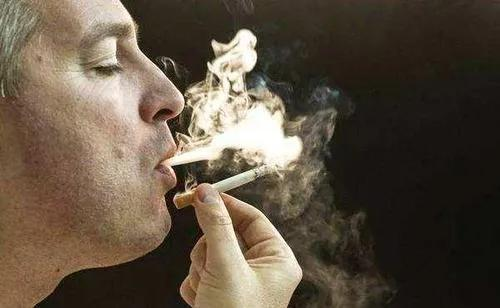smoke: (176, 167, 264, 209)
